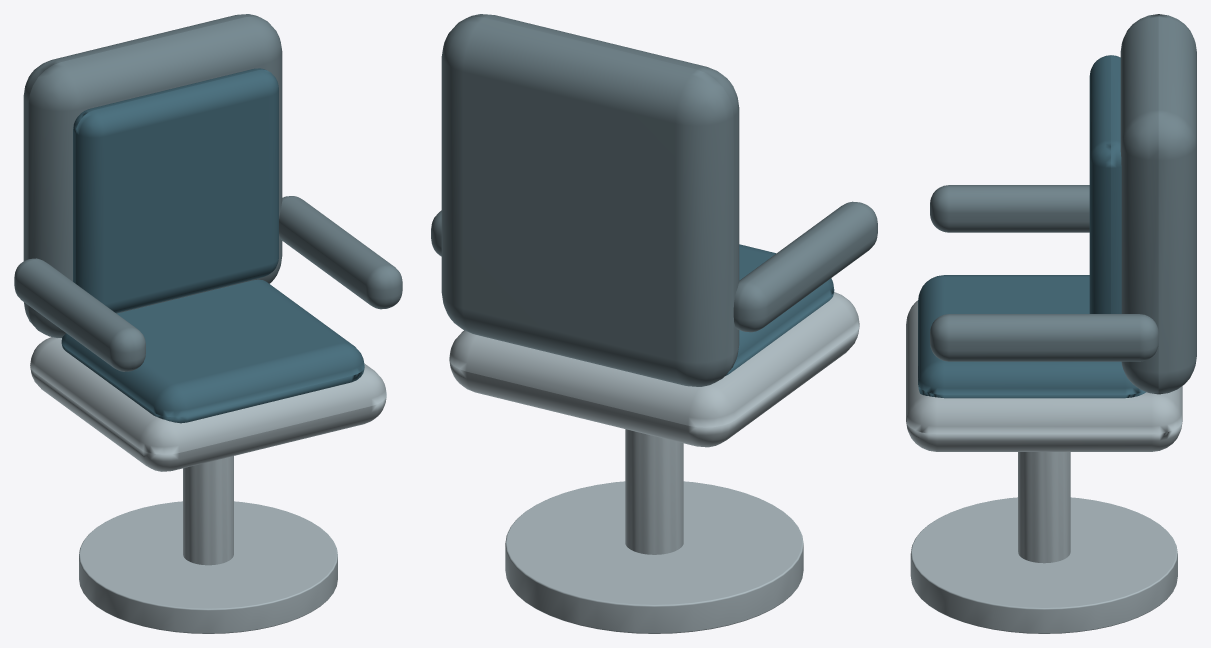
The model's file is chair.glb.
3 views of the same model, side by side, from view 1: azimuth 30°, elevation 25°; view 2: azimuth 150°, elevation 25°; view 3: azimuth 270°, elevation 25° (orthographic). The views are drawn at different scales.
Parts seen in each view (by area): view 1: starship-lounge chair; view 2: starship-lounge chair; view 3: starship-lounge chair.
Part boxes in pixels (x1,y1,x2,y2): starship-lounge chair: (14,14,402,633); starship-lounge chair: (431,14,877,633); starship-lounge chair: (906,14,1196,633).
Size of the model in its own units: 0.725 by 1.19 by 0.61.
